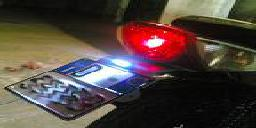LED: (116, 23, 181, 60)
